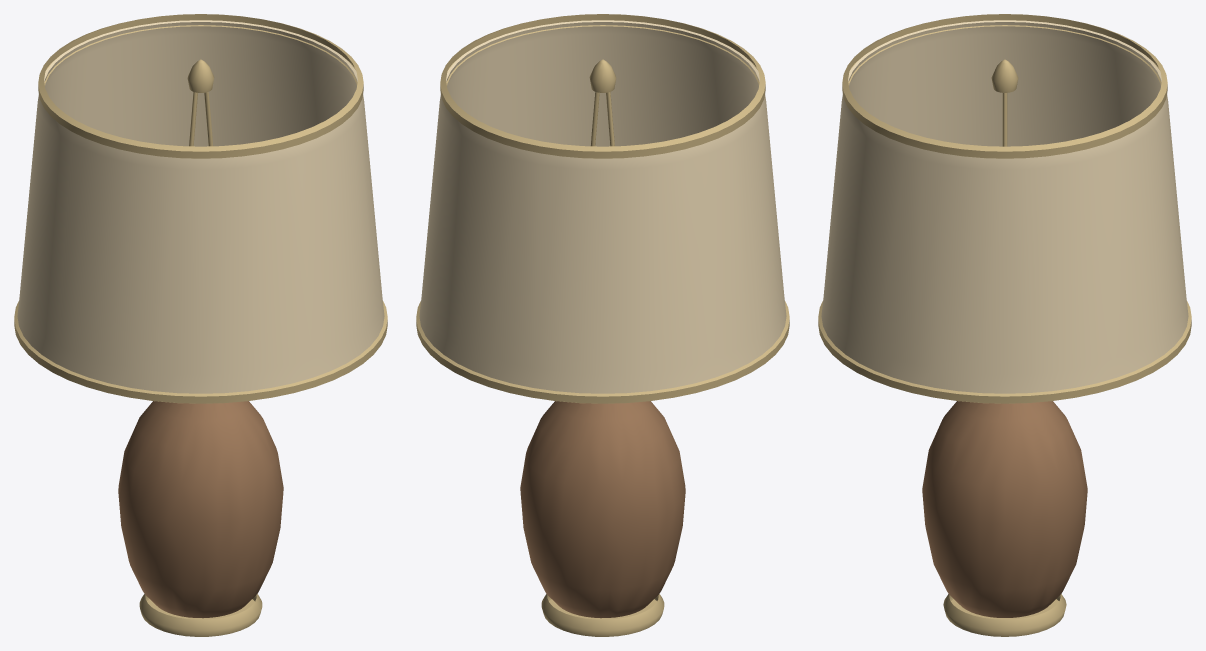
File: lp_table_lamp.glb
3 views of the same model, side by side, from view 1: azimuth 30°, elevation 25°; view 2: azimuth 150°, elevation 25°; view 3: azimuth 270°, elevation 25° (orthographic).
Parts seen in each view (by area): view 1: lp_table_lamp; view 2: lp_table_lamp; view 3: lp_table_lamp.
Part boxes in pixels (box(x1,y1,x2,y2)): lp_table_lamp: box(14, 14, 387, 636); lp_table_lamp: box(416, 14, 789, 636); lp_table_lamp: box(818, 14, 1191, 636).
Bounding box in the file's own units: 0.388 × 0.633 × 0.388.
